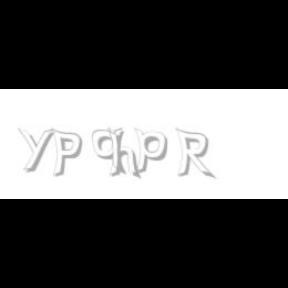P: (50, 128, 82, 178)
R: (175, 128, 213, 180)
h: (108, 128, 142, 180)
p: (134, 128, 172, 174)
q: (92, 128, 128, 176)
y: (18, 128, 58, 172)
